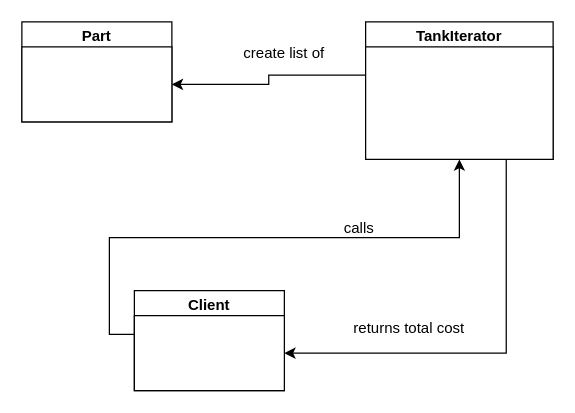
The diagram is 575 pixels wide and 413 high, and some of its shapes have lost their labels. Each missing label, with the centre of its shape:
"ArrayList<Part> parts hasNext() Next()" belongs at point (458, 102).
"String name int cost; getcost()" belongs at point (96, 84).
